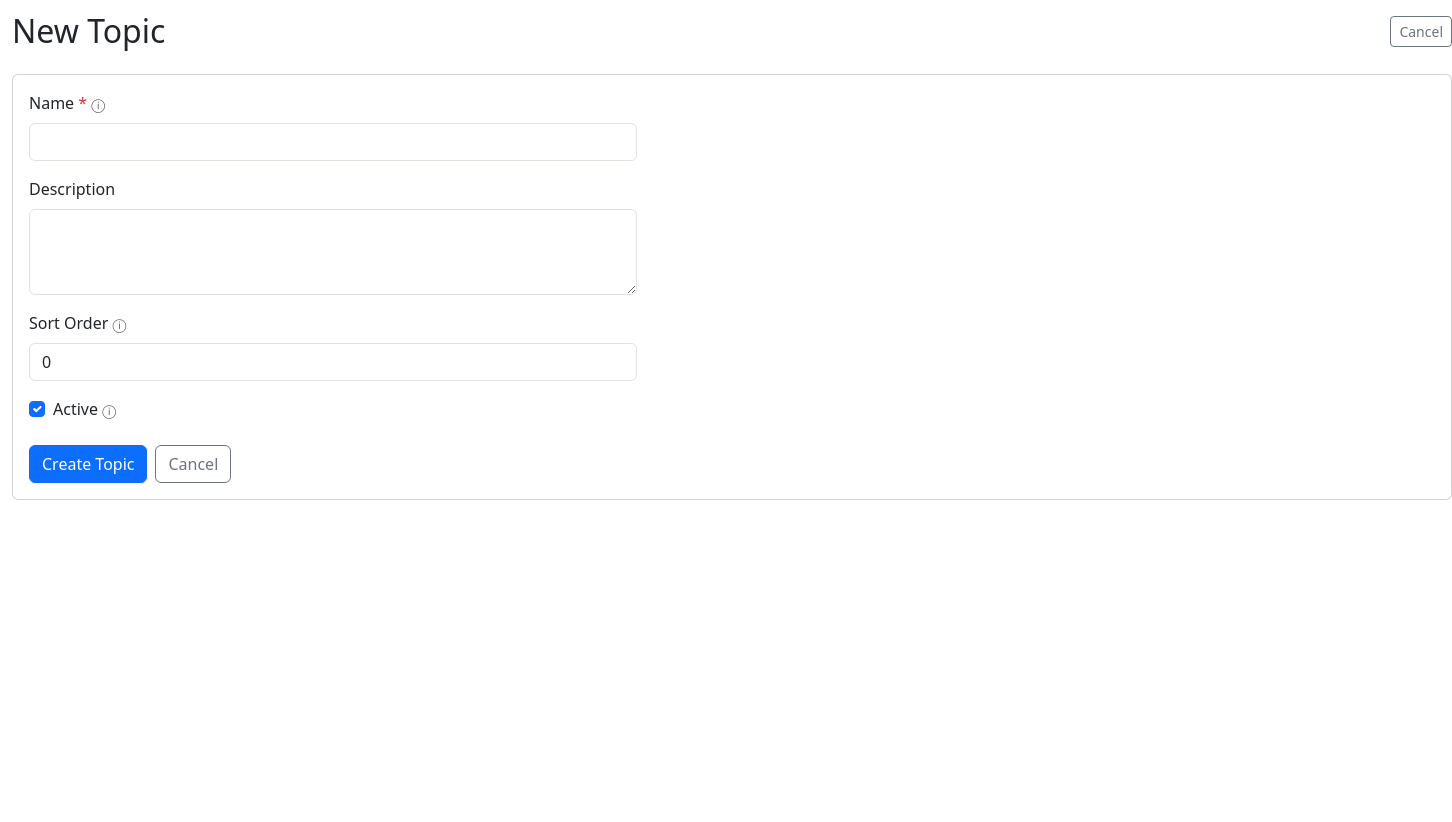
Test case: TopicFormPage › Create mode › shows API error message on failed create
This screenshot has width=1452, height=822.
Step 1. Type "Dental" into the field labelled "Name * ⓘ" → (333, 142), box [29, 123, 637, 161]
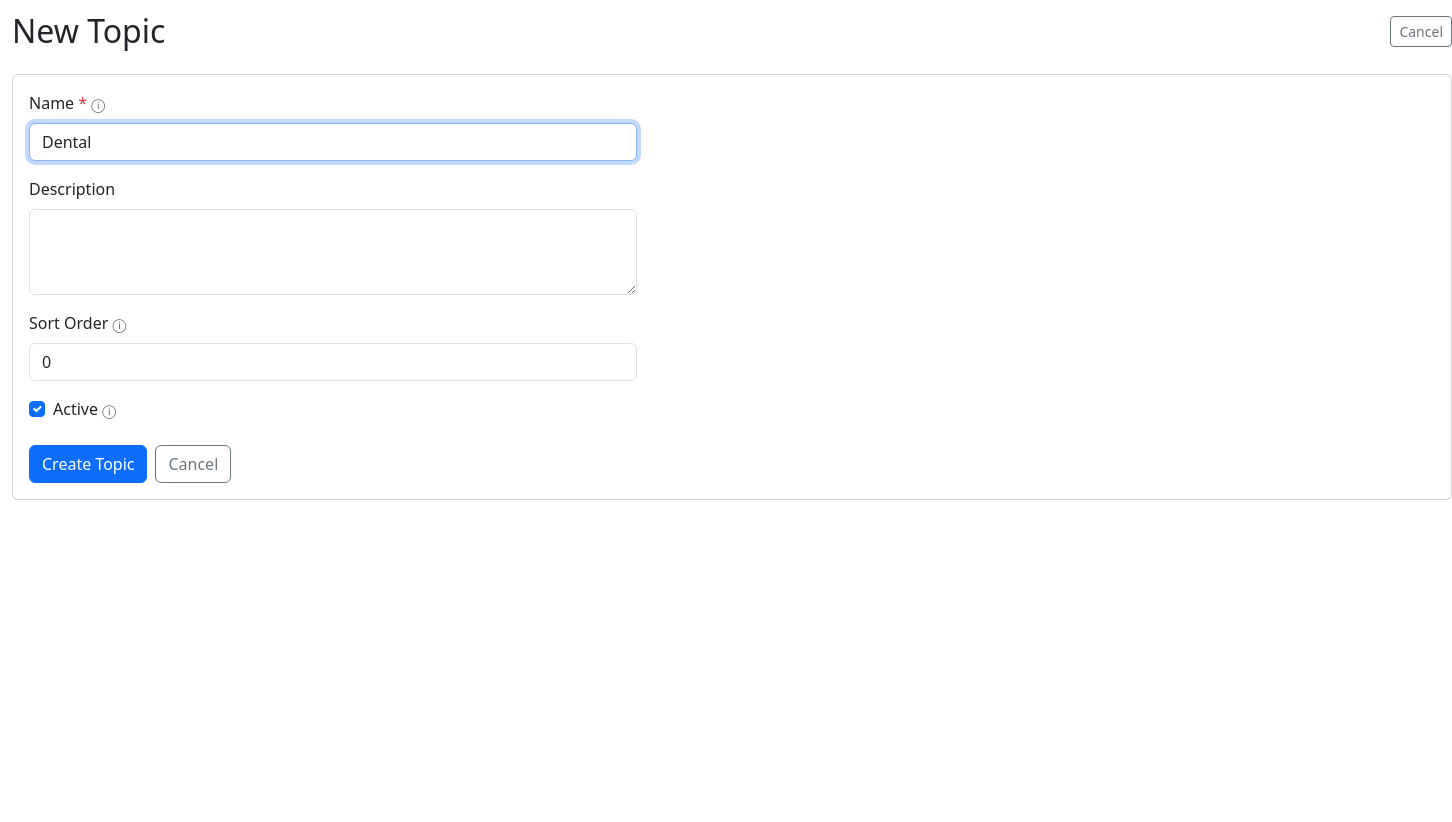
Step 2. Click the button "Create Topic" → (88, 464), box [29, 445, 148, 483]
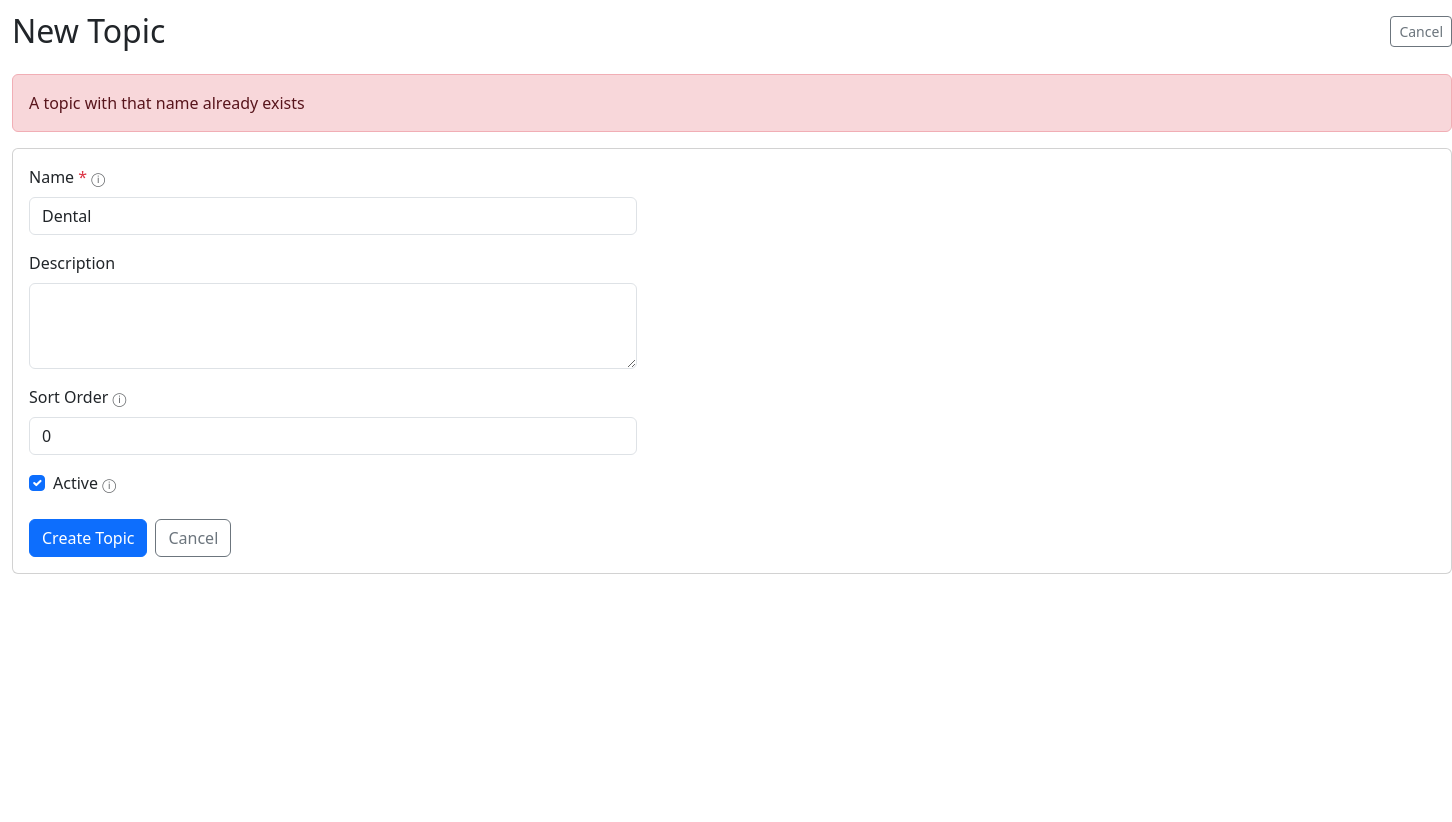
Now the text "A topic with that name already exists" is shown, box [12, 74, 1451, 132]
